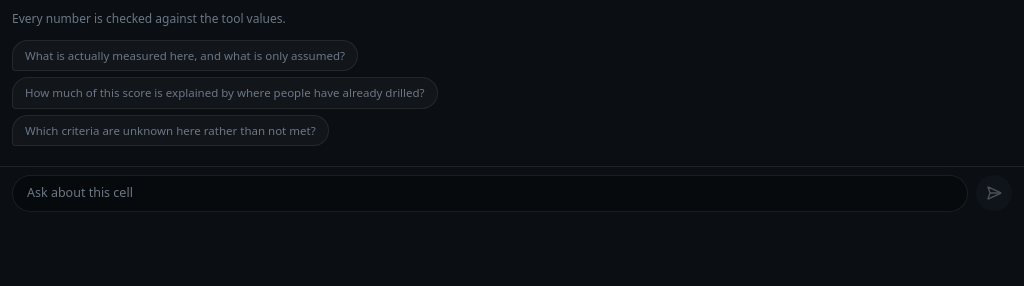
Test: the chat panel with the interface agent › renders a refusal with its reason and its id where the answer would be
What coordinates should you click on to do the following:
click the button "What is actually measured here, and what is only assumed?"
I would click on:
 (185, 56)
Its box is [12,40,358,71].
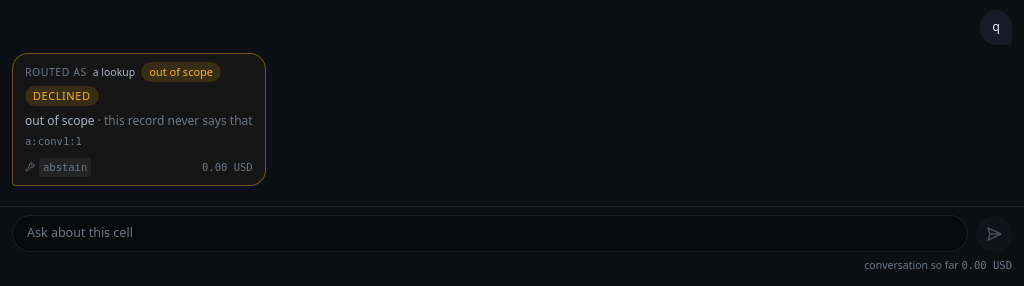
Check: the element with test id "chat-abstention" shows "out of scope", box [25,112,95,129]
Check: the element with test id "chat-abstention" shows "a:conv1:1", box [25,135,82,147]
Check: the element with test id "chat-route" shows "out of scope", box [149,64,213,79]
